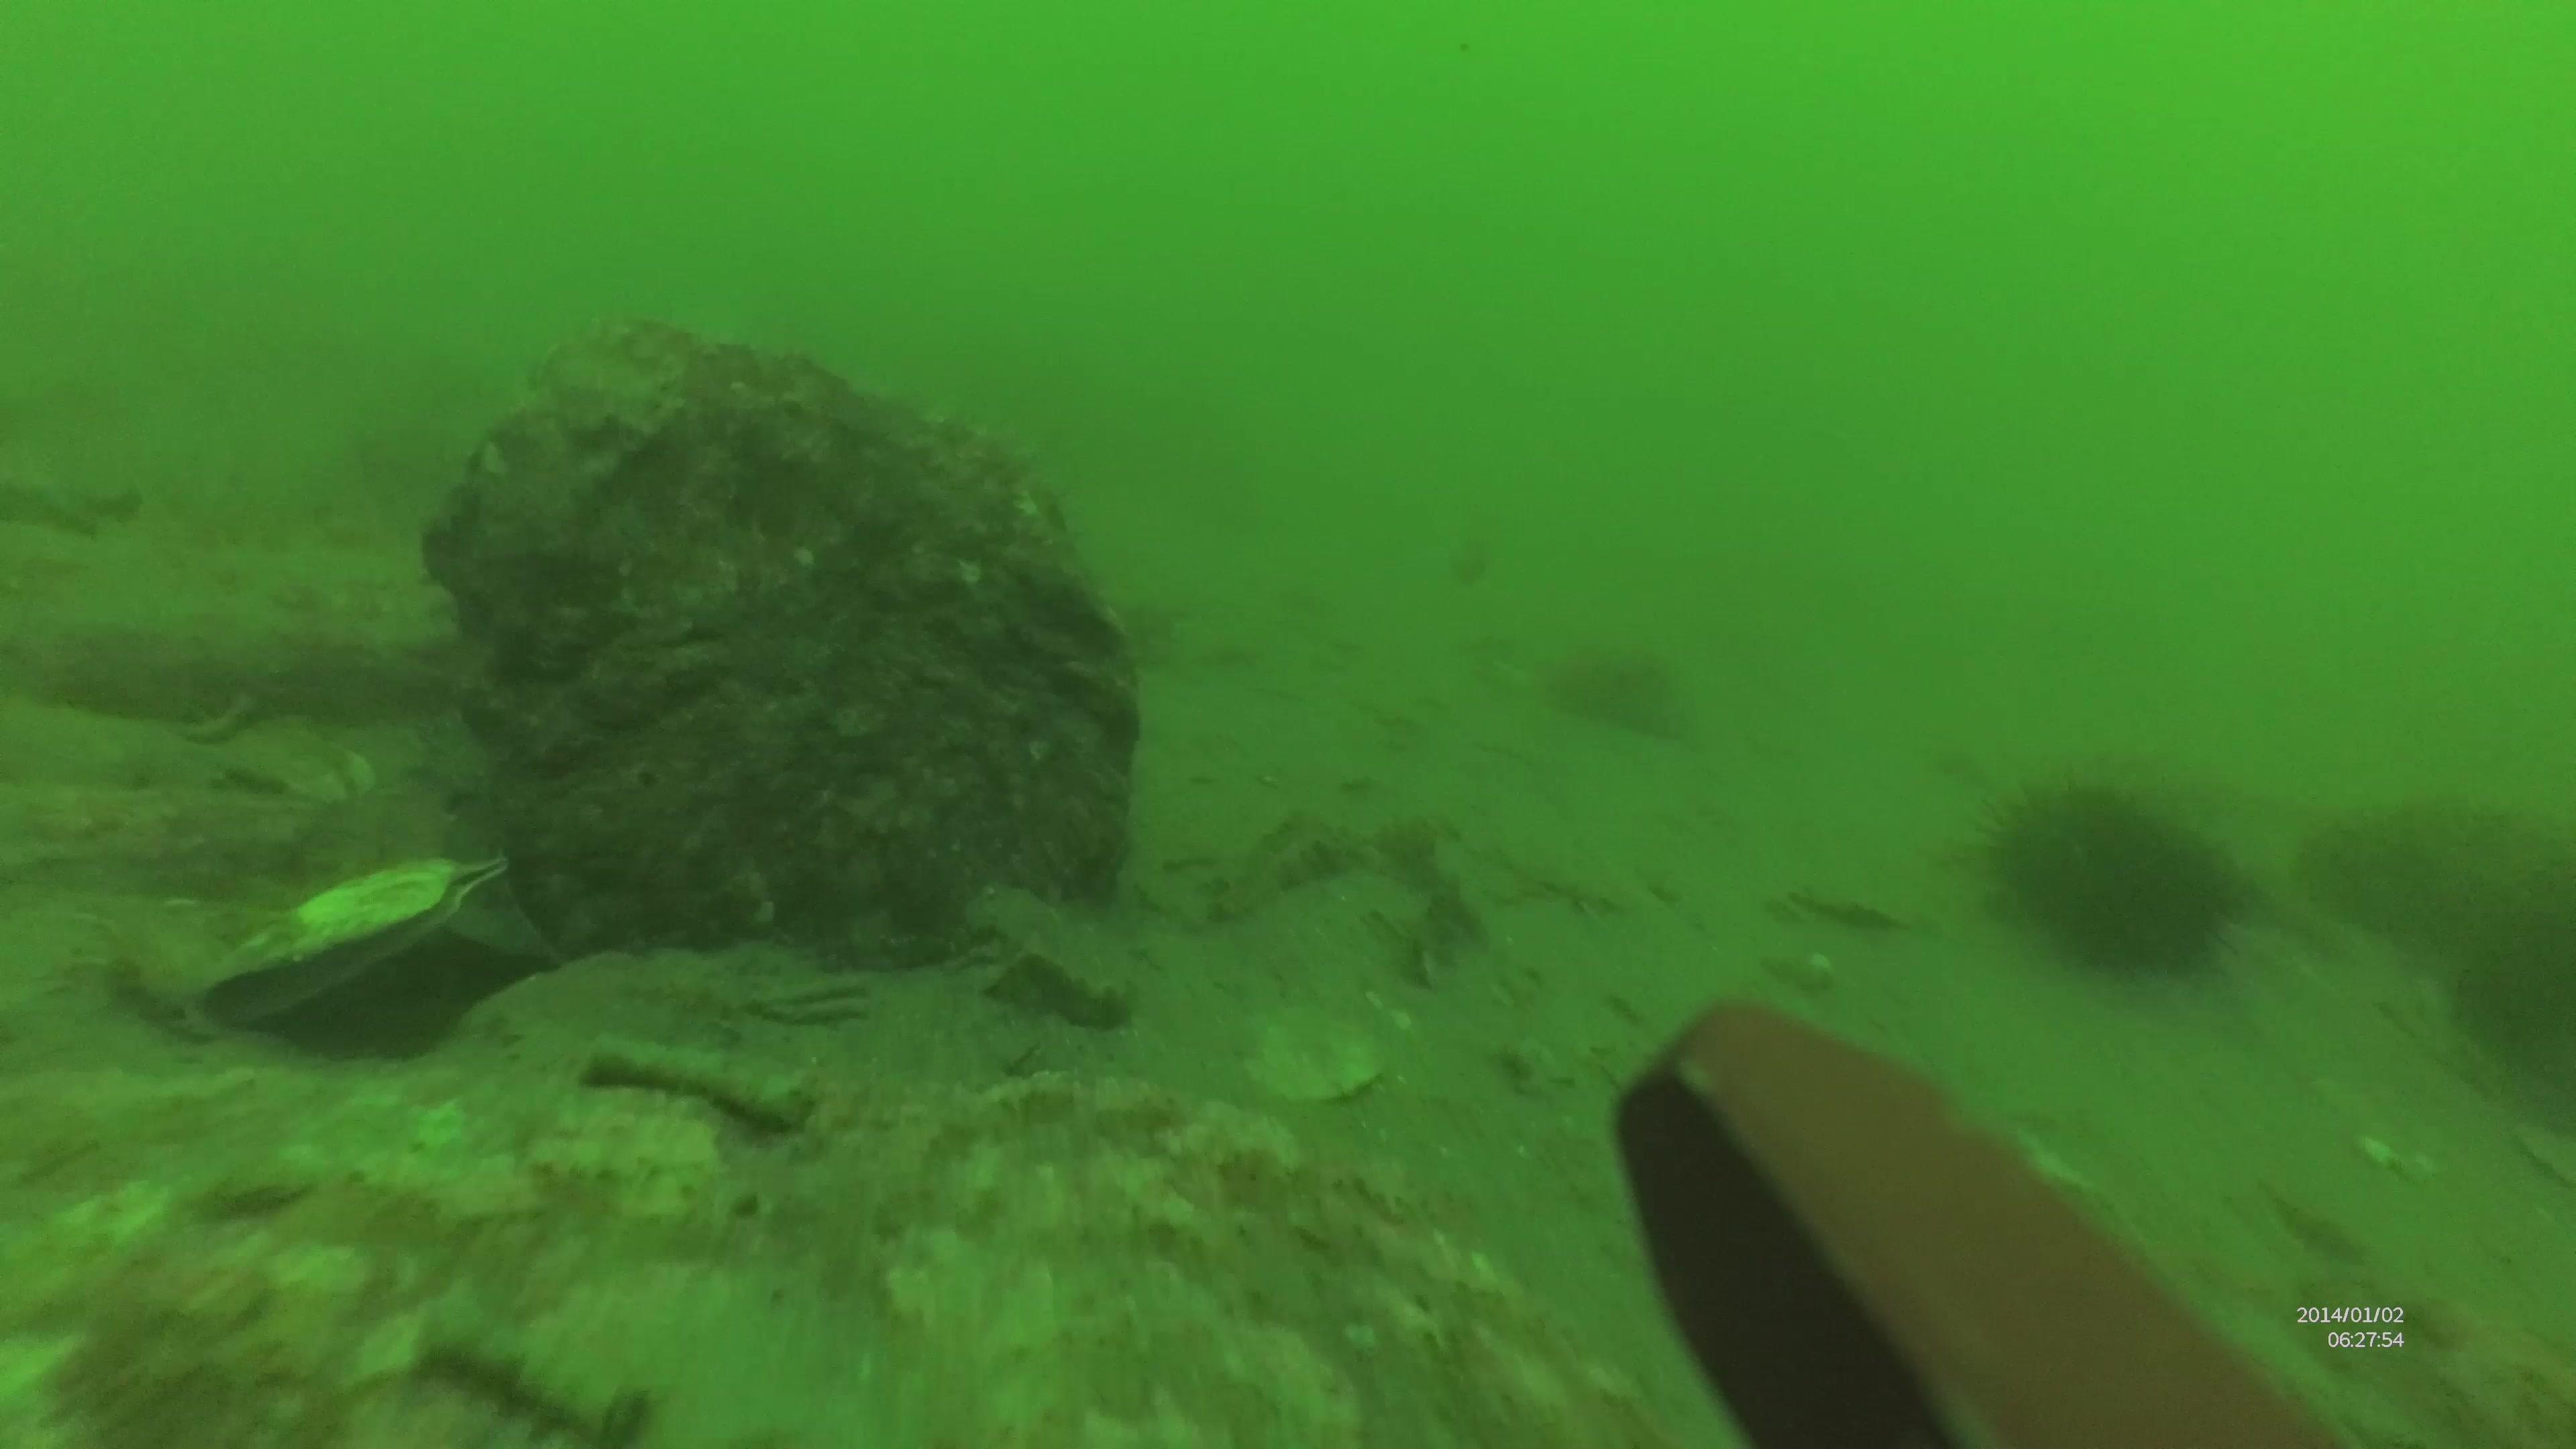echinus: (1967, 764, 2261, 985)
scallop: (203, 851, 502, 1030), (1246, 984, 1426, 1097)
